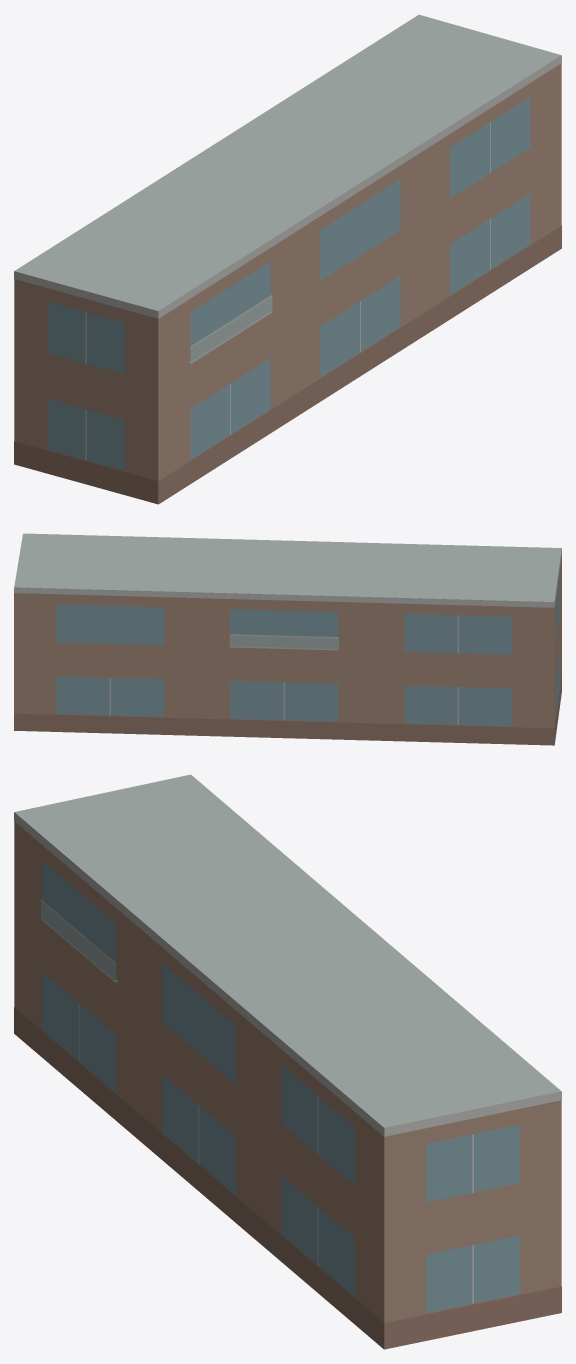
File: survey-upis-32983908.glb
3 renders of one model, top to bottom at view 1: azimuth 30°, elevation 25°; view 2: azimuth 150°, elevation 25°; view 3: azimuth 270°, elevation 25°, orthographic. The views are drawn at different scales.
Parts seen in each view (by area): view 1: survey-upis-32983908.tmp; view 2: survey-upis-32983908.tmp; view 3: survey-upis-32983908.tmp.
Boxes of the visible parts, x1=… form: survey-upis-32983908.tmp: x1=14, y1=14, x2=561, y2=504; survey-upis-32983908.tmp: x1=14, y1=533, x2=561, y2=745; survey-upis-32983908.tmp: x1=14, y1=774, x2=561, y2=1349.
Bounding box in the file's own units: 20.89 × 6.1 × 13.68.
